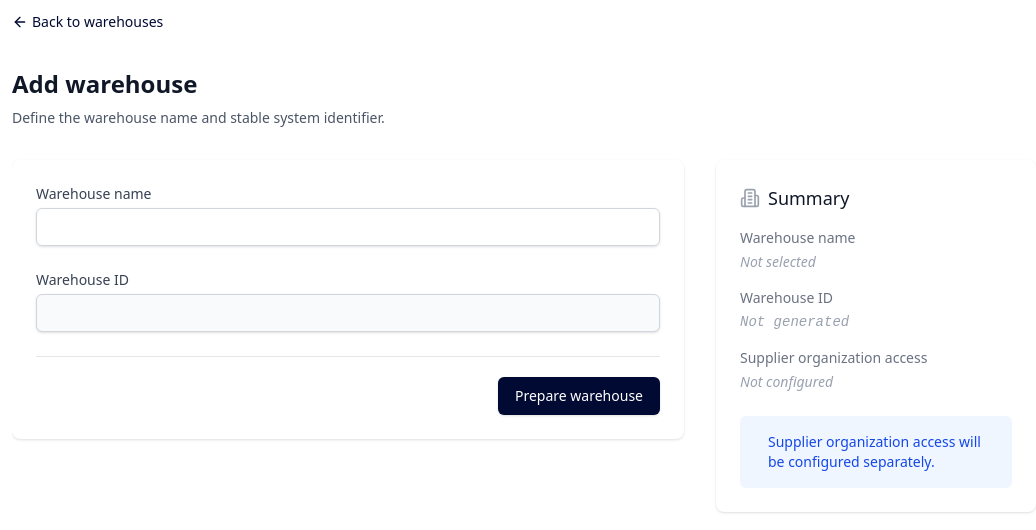
Test: AddWarehousePage tests › 9. reports only required-name validation for empty input with linked ARIA error state;
The image size is (1036, 530).
Click the button "Prepare warehouse" at (579,396), box [498,377,660,415]
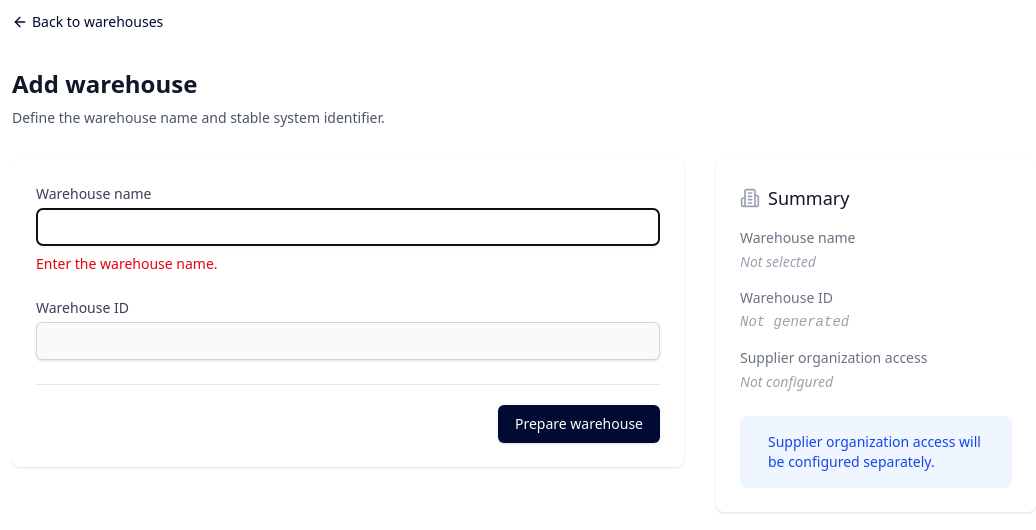
Result: the message reads "Enter the warehouse name." at [36,254,218,273]
